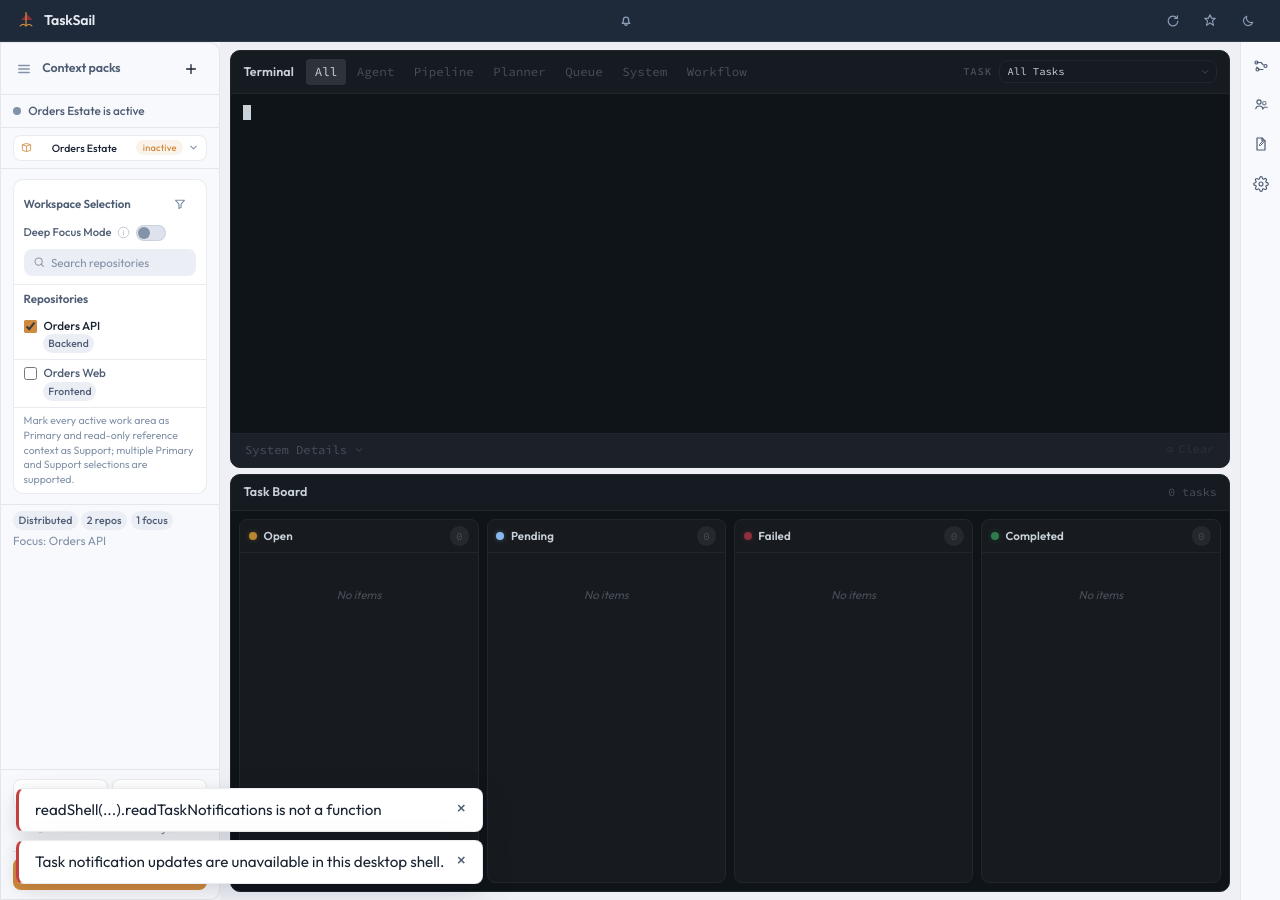
Test: App › MCP modal opens from rail and shows empty state
Click the button named "Open MCP configuration". click: coordinates (1260, 66)
box: [1244, 50, 1276, 82]
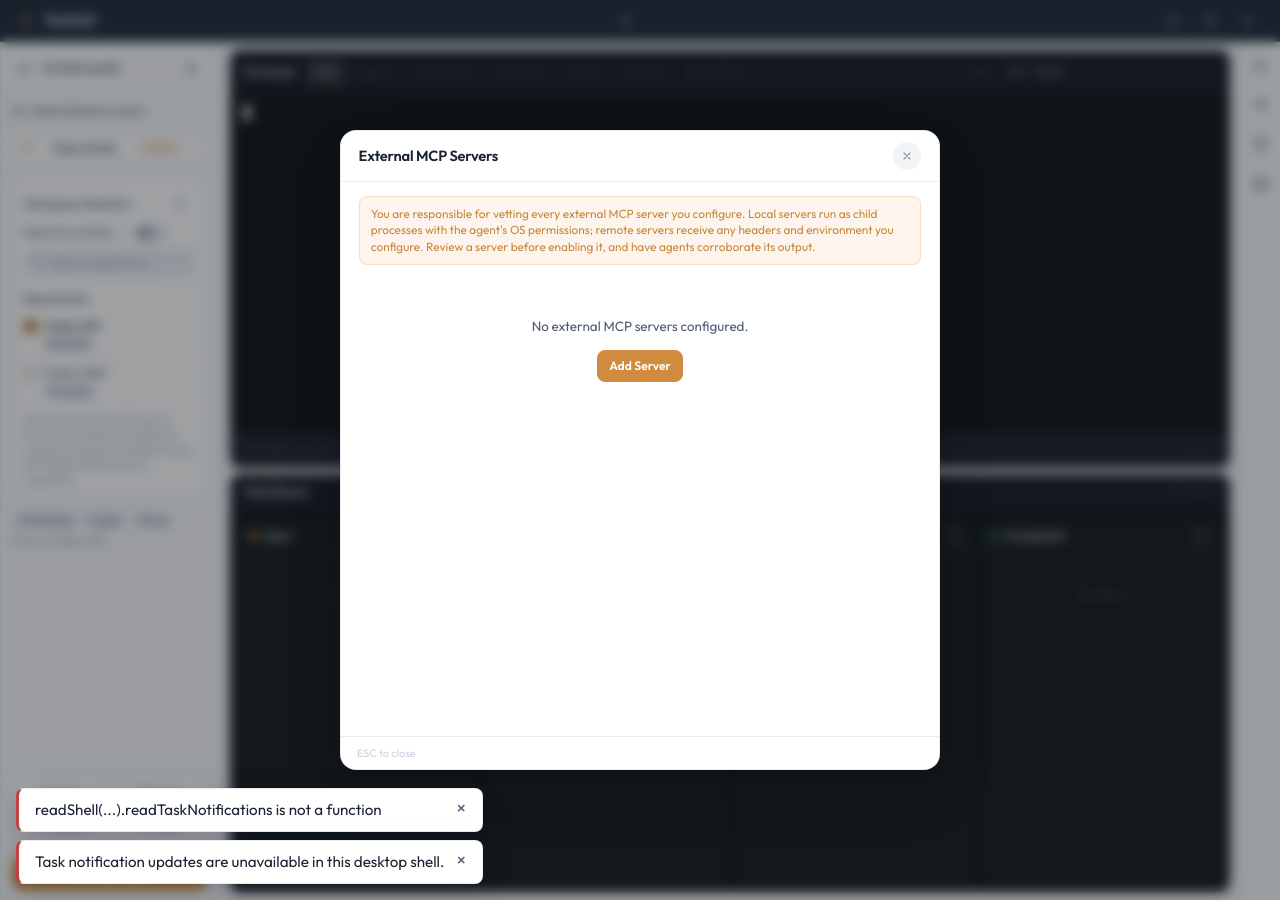
Expected: the heading "External MCP Servers" is shown, [359, 145, 498, 167]
Expected: the text "No external MCP servers configured." is shown, [532, 318, 748, 334]
